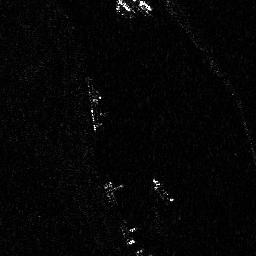ship: (152, 177, 174, 203)
